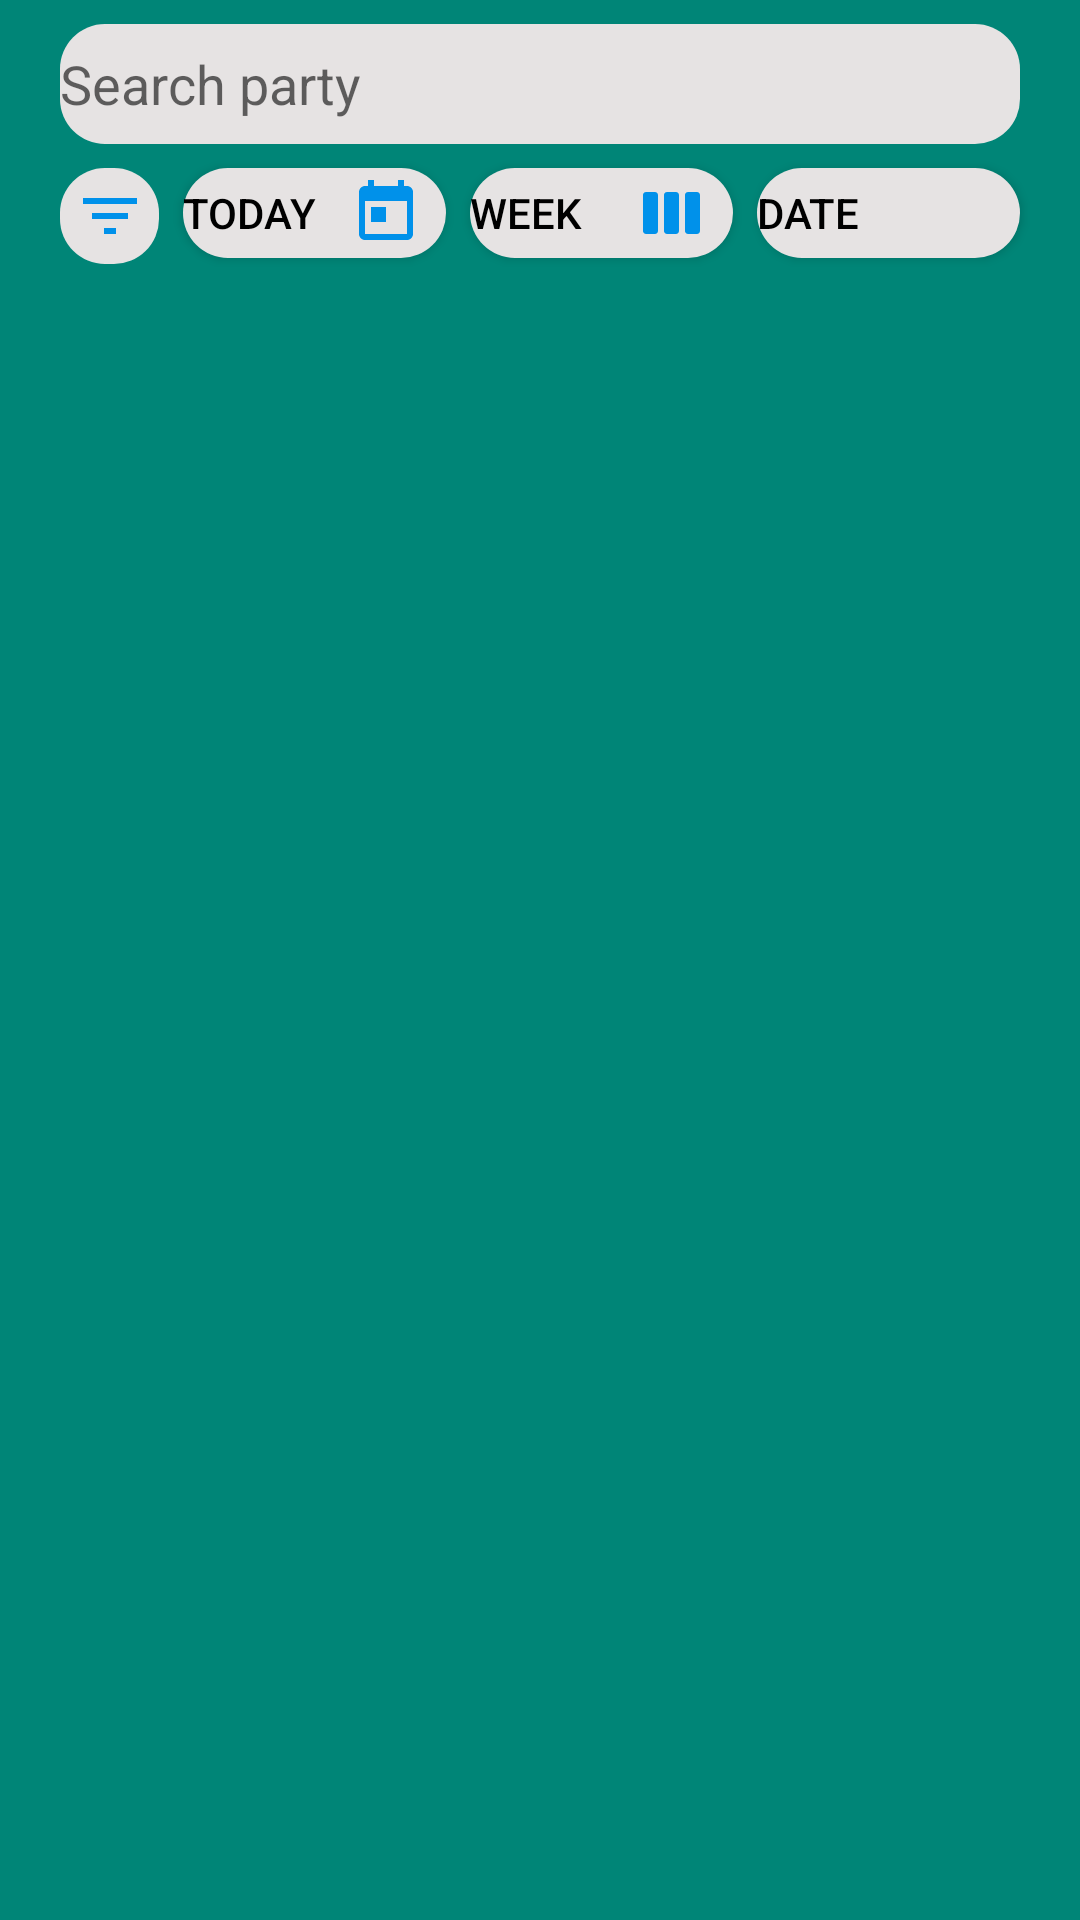

Icons on this 1080px x 1920px Android screen, each with the point to tap as (x=x, y=y):
filter list: (x=109, y=216)
